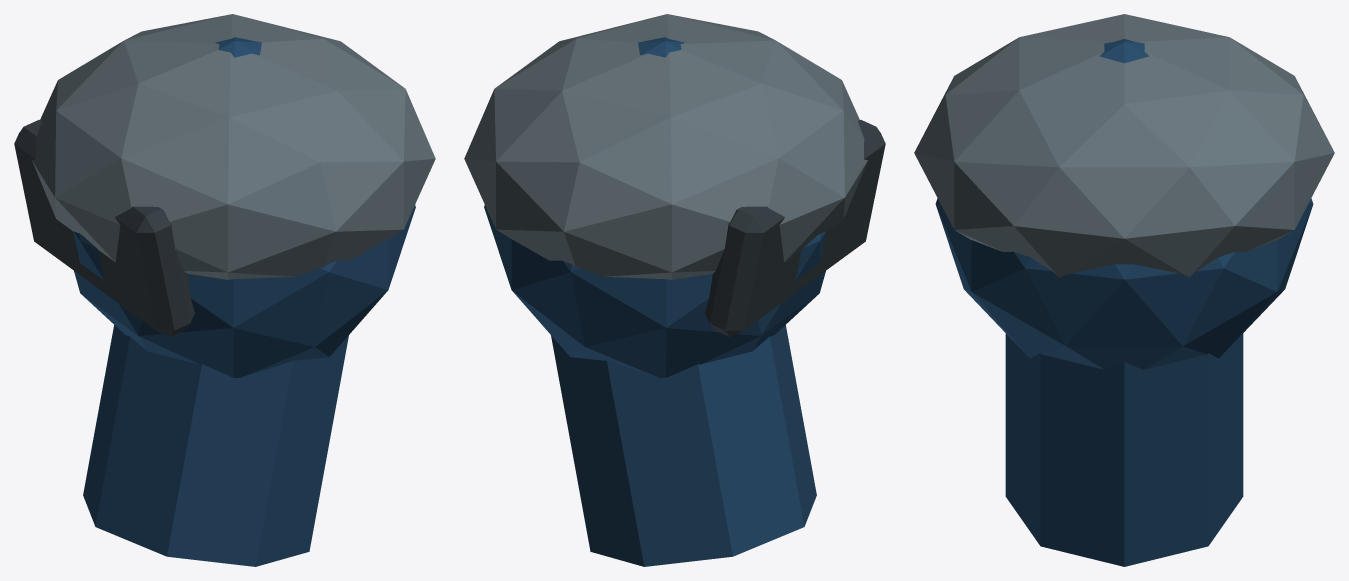
The model's file is ArmLeft.glb.
The picture shows the model from 3 angles, left to right: view 1: azimuth 30°, elevation 25°; view 2: azimuth 150°, elevation 25°; view 3: azimuth 270°, elevation 25°; orthographic projection.
Visible parts, largest first — view 1: Sculpture; view 2: Sculpture; view 3: Sculpture.
Part boxes in pixels (bbox=[...]): Sculpture: bbox=[14, 14, 435, 566]; Sculpture: bbox=[464, 14, 885, 566]; Sculpture: bbox=[914, 14, 1334, 566].
Size of the model in its own units: 0.284 by 0.3813 by 0.294.
